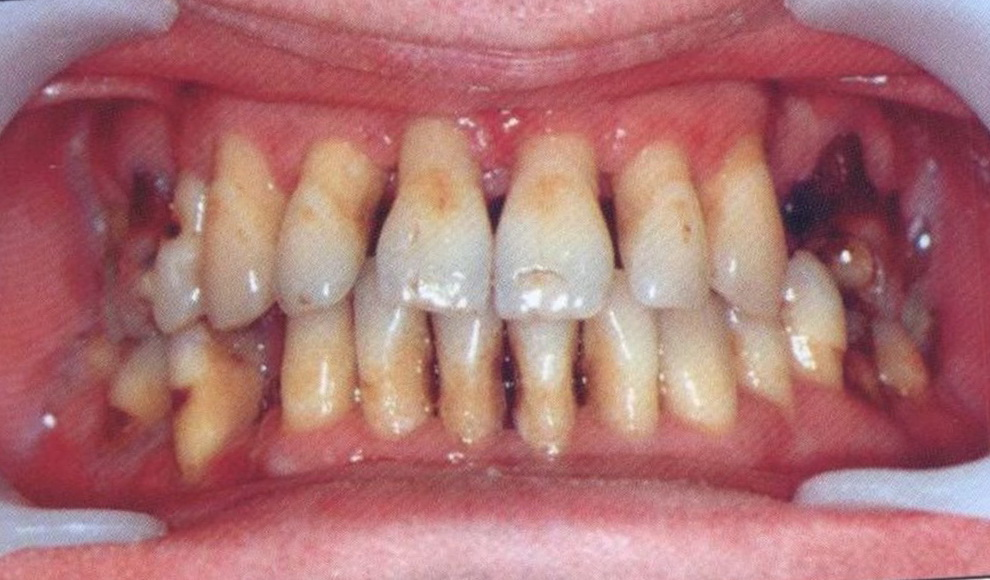LL1BC_healthy: (736, 311, 795, 416)
LL2BC_decay: (785, 264, 851, 395)
LLCI_decay: (502, 314, 591, 455)
LLC_healthy: (661, 303, 743, 436)
LLLI_healthy: (583, 300, 664, 441)
LR1BC_decay: (162, 334, 263, 469)
LRCI_decay: (429, 305, 512, 451)
LRC_healthy: (269, 317, 353, 434)
LRLI_decay: (348, 303, 436, 449)
ULCI_decay: (493, 128, 615, 323)
ULC_healthy: (710, 139, 792, 320)
ULLI_decay: (614, 144, 712, 309)
UR1BC_decay: (149, 169, 206, 335)
URCI_decay: (374, 118, 493, 313)
URC_healthy: (200, 133, 287, 333)
URLI_decay: (267, 139, 377, 318)
